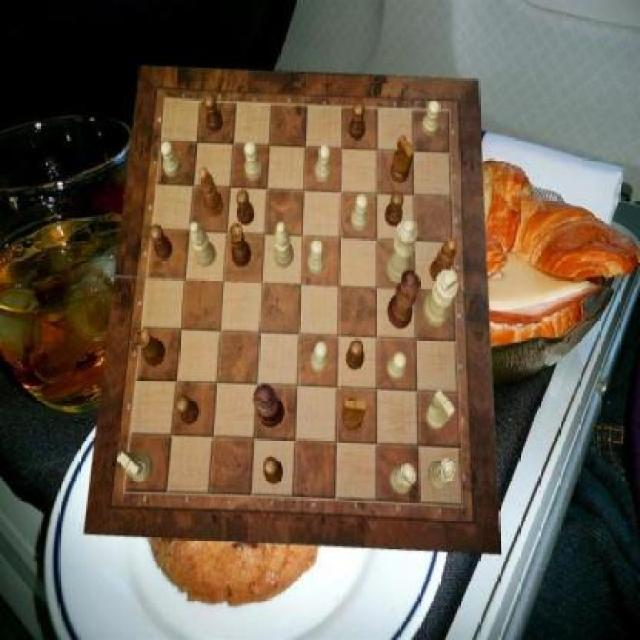bishop: (430, 238, 458, 284), (200, 168, 225, 218)
black-bishop: (253, 385, 284, 427)
black-king: (391, 134, 414, 183), (343, 397, 368, 431)
black-knight: (151, 224, 174, 260), (204, 94, 223, 134), (237, 190, 255, 226), (386, 192, 404, 228), (349, 102, 366, 140), (177, 396, 200, 424), (263, 457, 283, 485), (346, 340, 364, 371)
black-pawn: (388, 271, 420, 331)
black-queen: (136, 329, 166, 367), (229, 224, 252, 268)
black-rook: (190, 222, 218, 268), (274, 222, 294, 268)
white-bishop: (423, 269, 459, 328)
white-king: (424, 391, 454, 431), (117, 451, 153, 482)
white-knight: (162, 140, 182, 178), (350, 196, 368, 232), (245, 142, 262, 180), (422, 99, 439, 136), (316, 145, 332, 182), (311, 341, 328, 374), (388, 352, 408, 380), (308, 239, 324, 273)
white-pawn: (386, 218, 419, 284)
white-queen: (429, 458, 457, 491), (391, 463, 417, 494)
